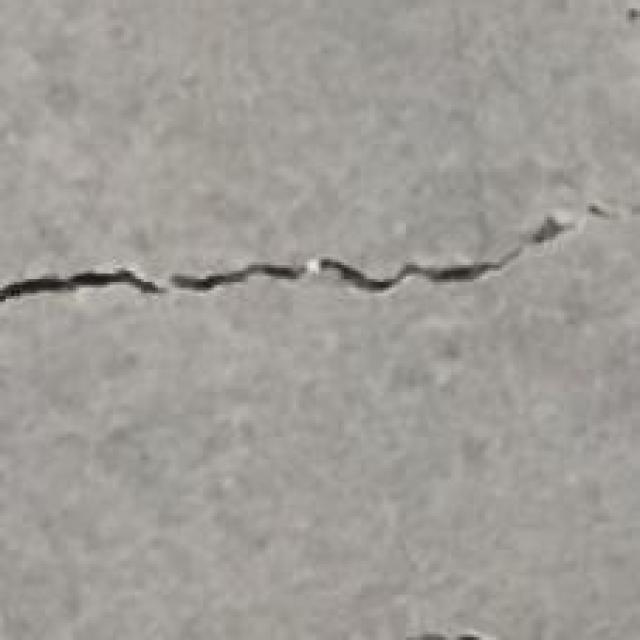crack: (0, 199, 633, 304)
